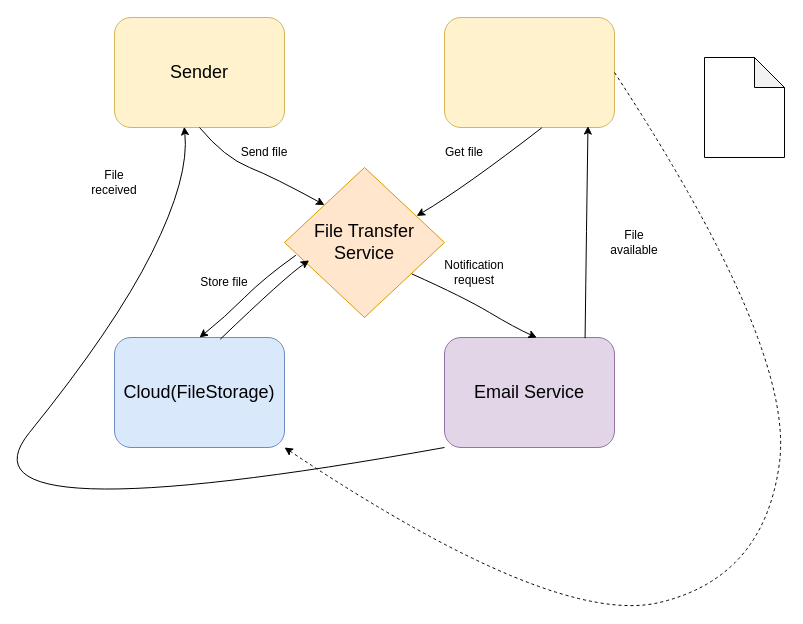
Some shapes in this 803 by 624 pixel diagram are drawn without their labels. The shapes that lost their labels are listed below. From the top down, each one's box as (x1, y1, x2, y2) in pixels, then its label:
(444, 16, 614, 128): Recepient
(704, 56, 784, 158): User download directly from Cloud using WebApp
